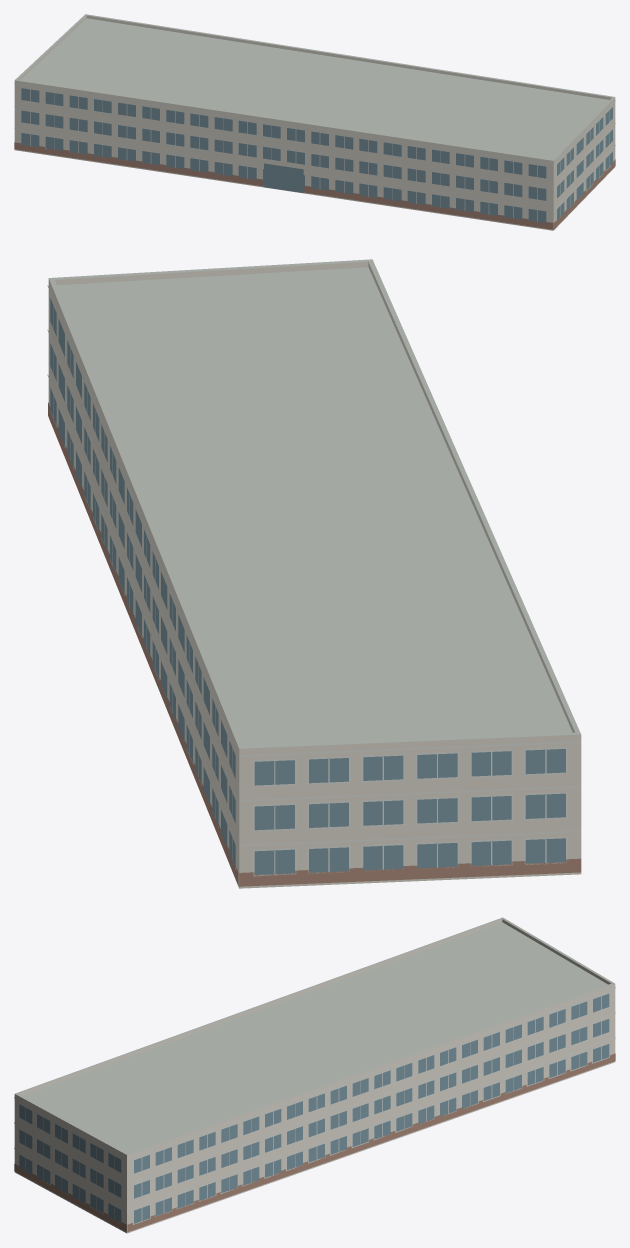
Rendered from public-aeacf70f-a646-4425-acf7-d107f22927d5.glb.
The picture shows the model from 3 angles, top to bottom: view 1: azimuth 30°, elevation 25°; view 2: azimuth 150°, elevation 25°; view 3: azimuth 270°, elevation 25°; orthographic projection. The views are drawn at different scales.
Parts seen in each view (by area): view 1: public-aeacf70f-a646-4425-acf7-d107f22927d5; view 2: public-aeacf70f-a646-4425-acf7-d107f22927d5; view 3: public-aeacf70f-a646-4425-acf7-d107f22927d5.
Part boxes in pixels (x1,y1,x2,y2): public-aeacf70f-a646-4425-acf7-d107f22927d5: [14, 14, 615, 230]; public-aeacf70f-a646-4425-acf7-d107f22927d5: [47, 259, 581, 888]; public-aeacf70f-a646-4425-acf7-d107f22927d5: [14, 917, 615, 1233].
Bounding box in the file's own units: 59.5 × 9.15 × 63.56.
